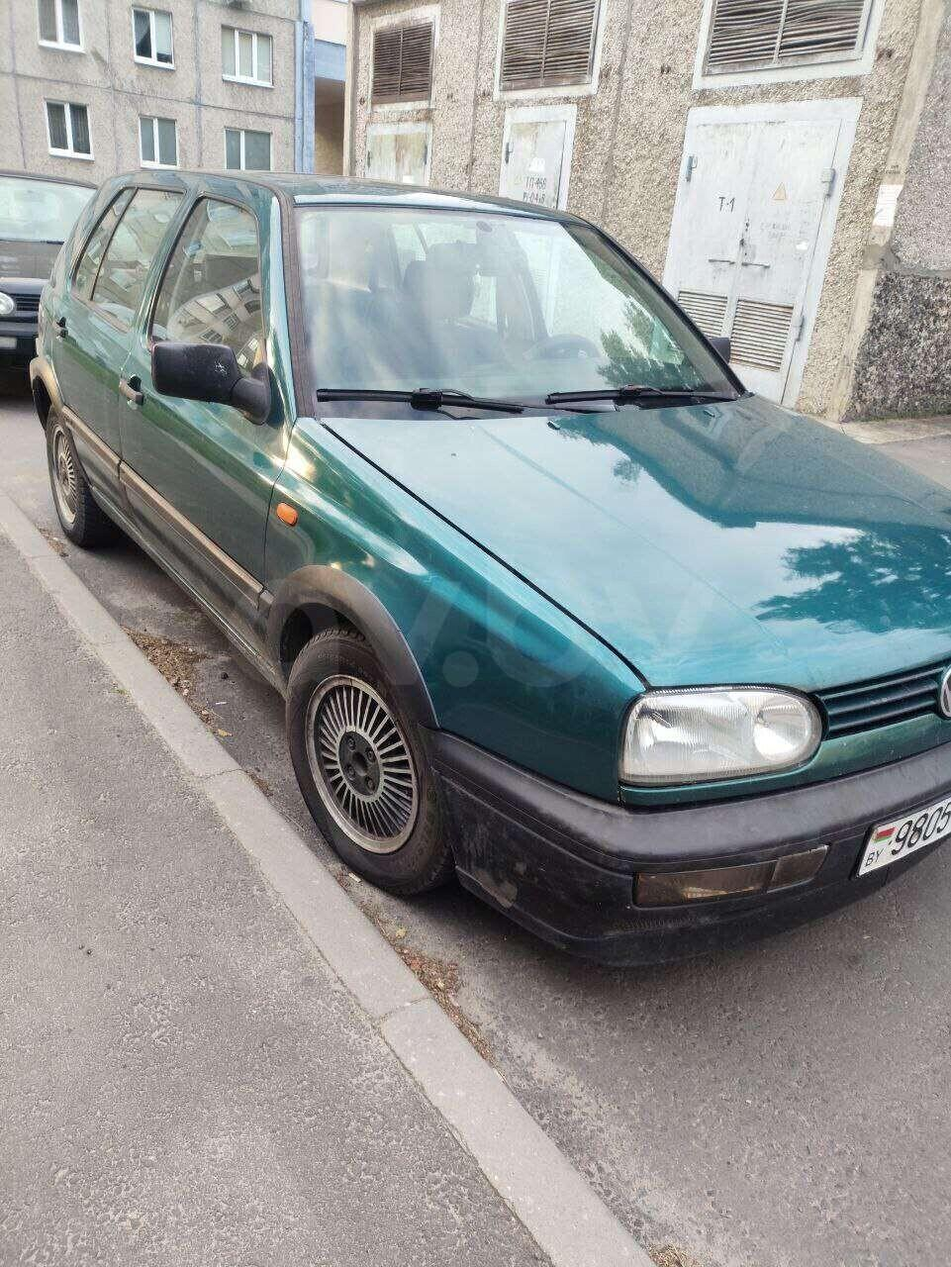Golf_1991-2000: (30, 174, 951, 954)
